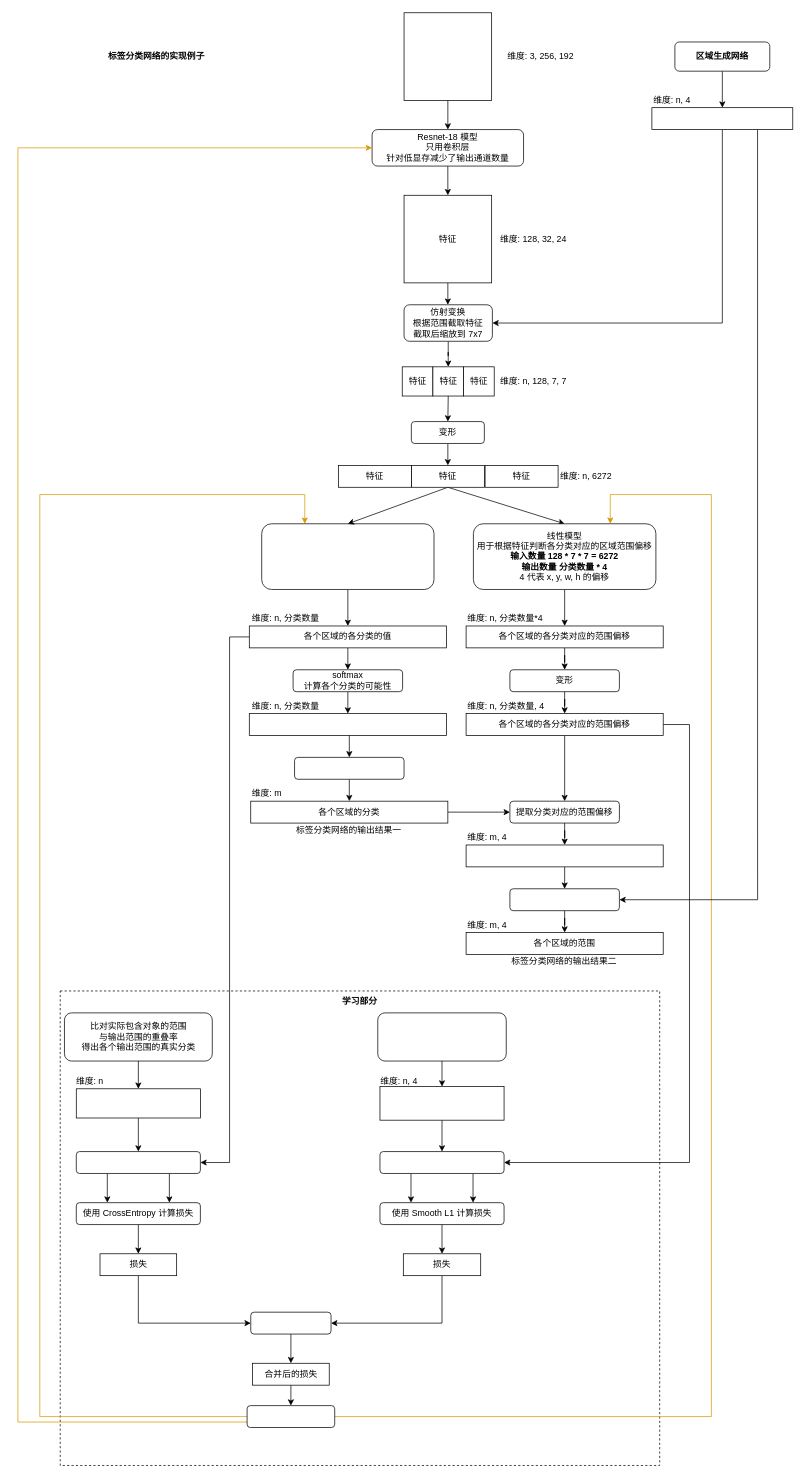
This 806x1478 diagram has some shape labels left out. The centre of each missing label's shape, as x and y in pixels:
使用 + 合并损失: (x=290, y=1322)
各个区域的各分类的可能性: (x=347, y=724)
各个区域的范围偏移: (x=564, y=855)
各个输出范围的偏移: (x=441, y=1103)
各个输出范围的实际分类: (x=138, y=1103)
图片: (x=447, y=56)
提取可能性最大的分类 并除去 "非对象" 分类: (x=349, y=768)
比对实际包含对象的范围 与输出范围 得出各个输出范围的偏移: (x=441, y=1036)
线性模型 用于根据特征判断区域中对象的分类 输入数量 128 * 7 * 7 = 6272 输出数量 分类数量 后面会使用 softmax 输出各分类的可能性: (x=347, y=556)
经过调整后的可能包含对象的范围: (x=722, y=118)
调整模型参数: (x=290, y=1416)
调整范围: (x=564, y=899)
过滤不包含对象的范围: (x=441, y=1162)
过滤重叠率不高 也不低的范围: (x=138, y=1162)
